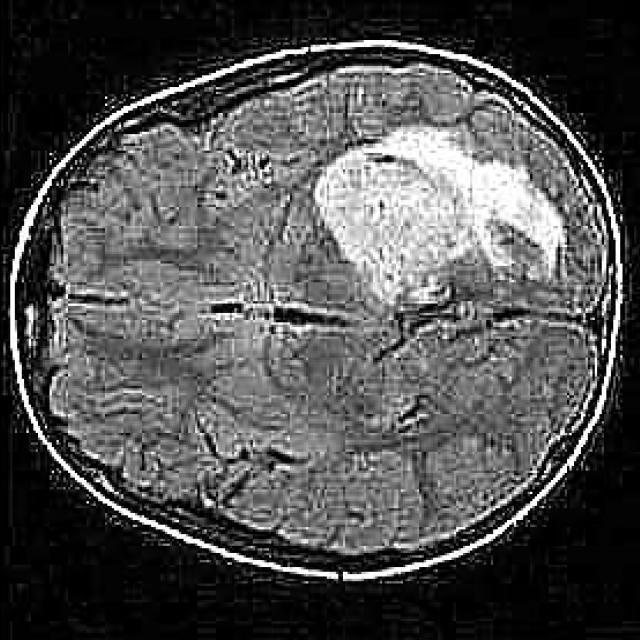tumor: (310, 125, 559, 304)
